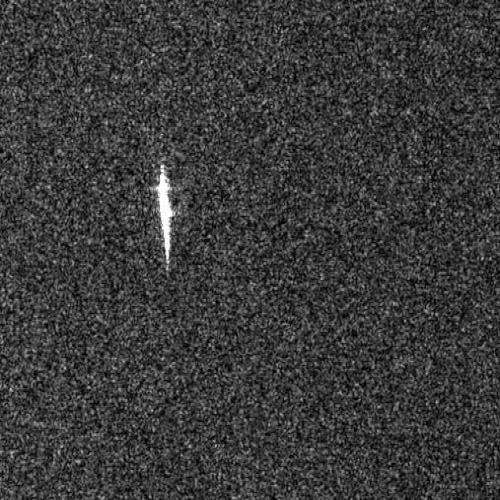ship: (157, 165, 174, 263)
